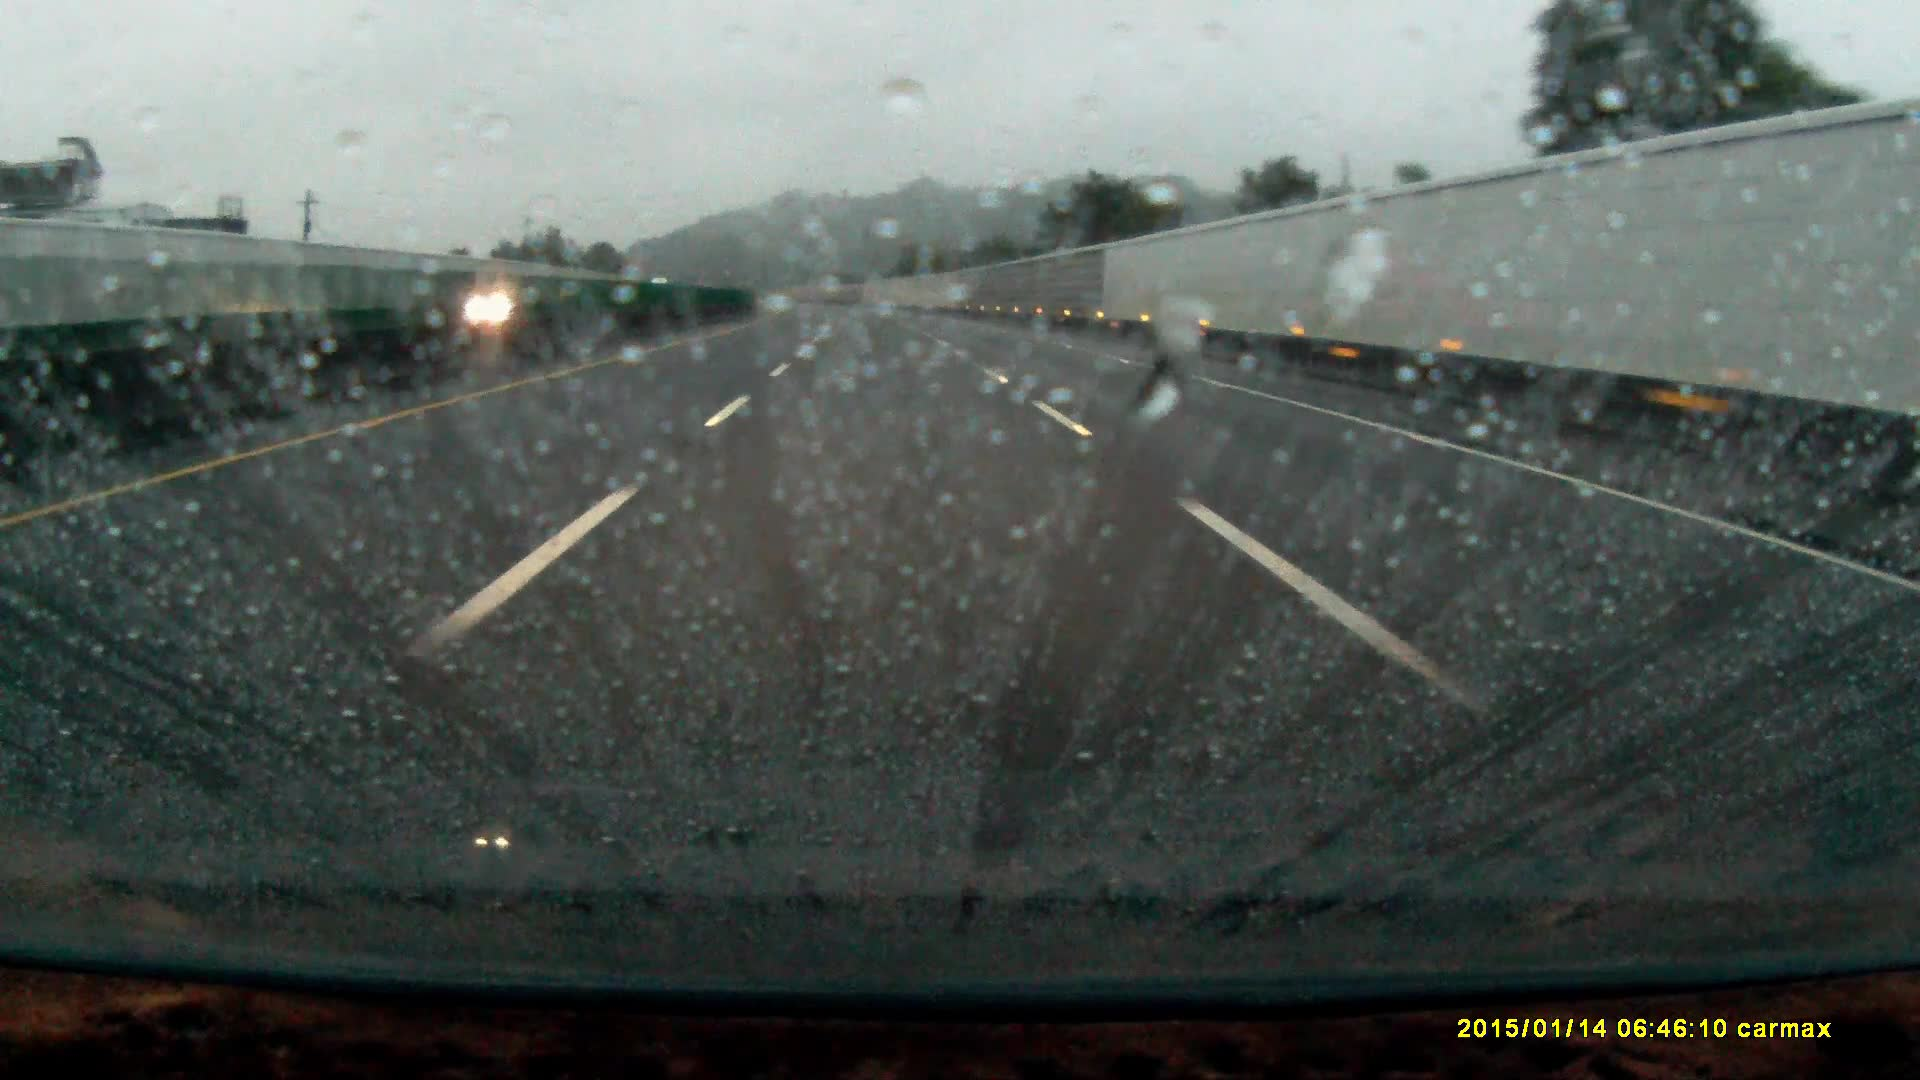vehicle: (472, 293, 525, 320)
